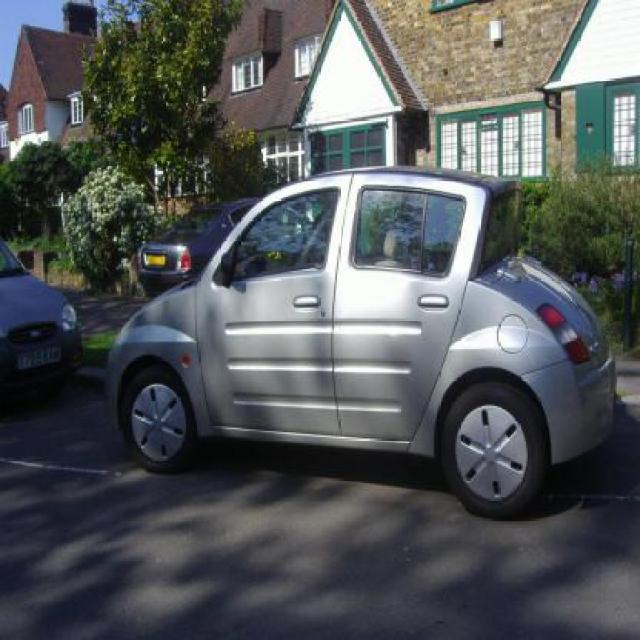License-Plates: (12, 340, 66, 370)
